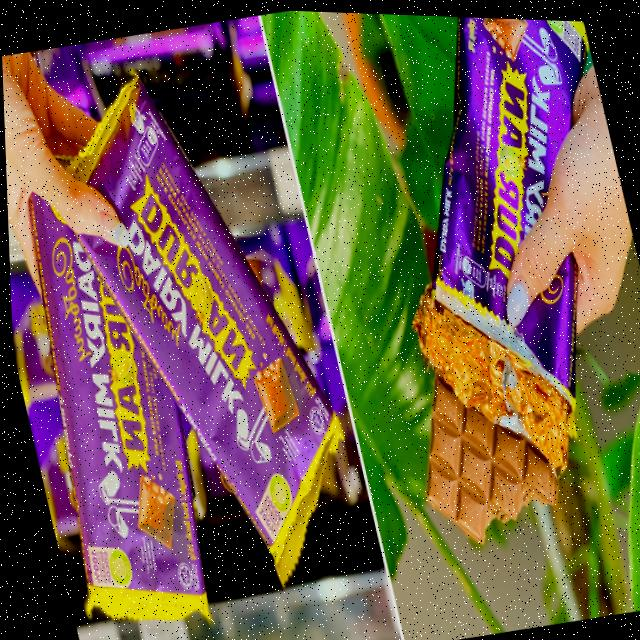cadbury: (37, 49, 368, 612), (315, 9, 640, 556), (4, 129, 223, 632)
